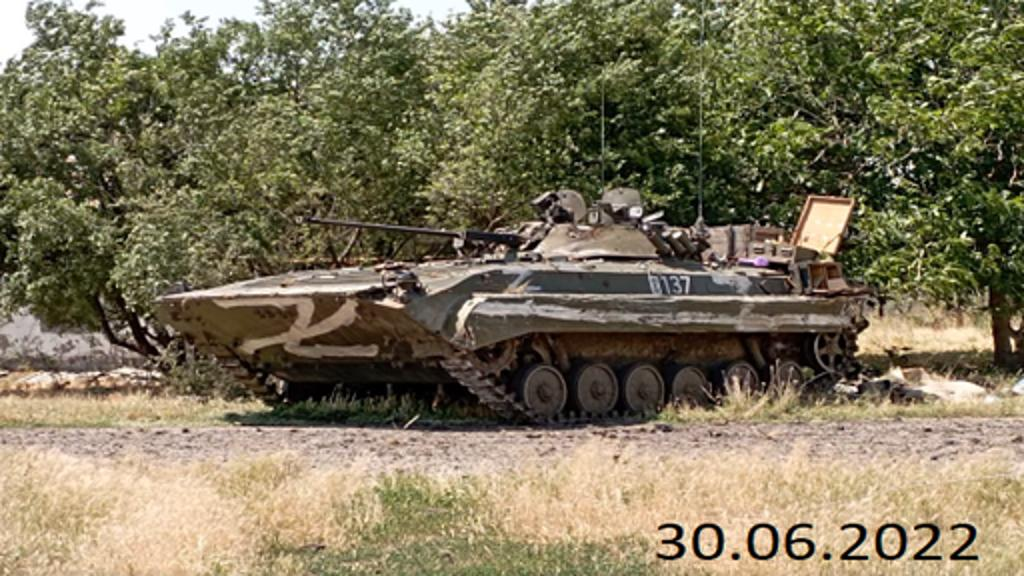APC-IFV: (150, 168, 882, 428)
